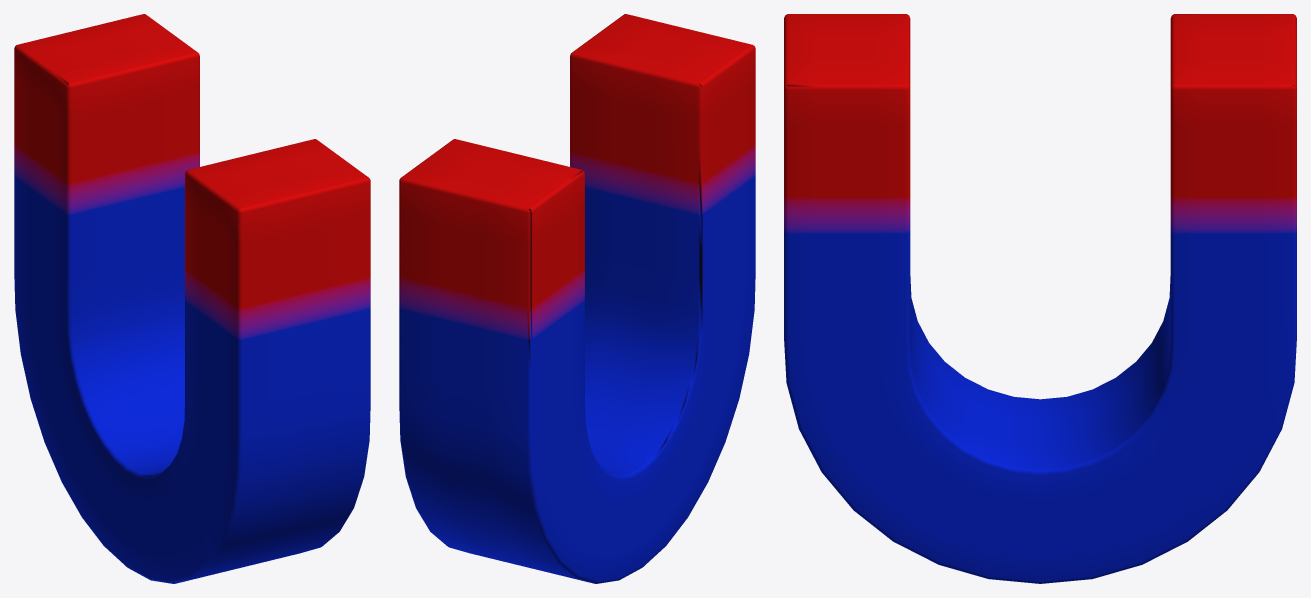
File: magnet.fbx
3 views of the same model, side by side, from view 1: azimuth 30°, elevation 25°; view 2: azimuth 150°, elevation 25°; view 3: azimuth 270°, elevation 25° (orthographic). The views are drawn at different scales.
Parts seen in each view (by area): view 1: magnet; view 2: magnet; view 3: magnet.
Boxes of the visible parts, left/top/right/bottom form: magnet: left=14, top=14, right=370, bottom=583; magnet: left=399, top=14, right=755, bottom=583; magnet: left=784, top=14, right=1296, bottom=583.
Size of the model in its own units: 54.46 by 173 by 161.
